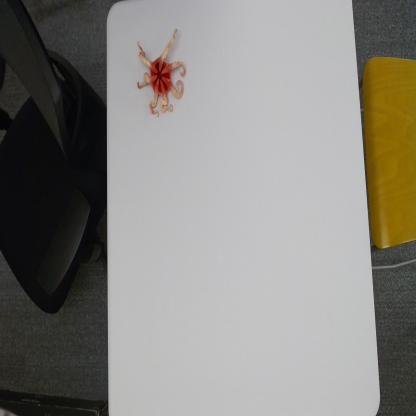Octopus: (136, 26, 187, 121)
